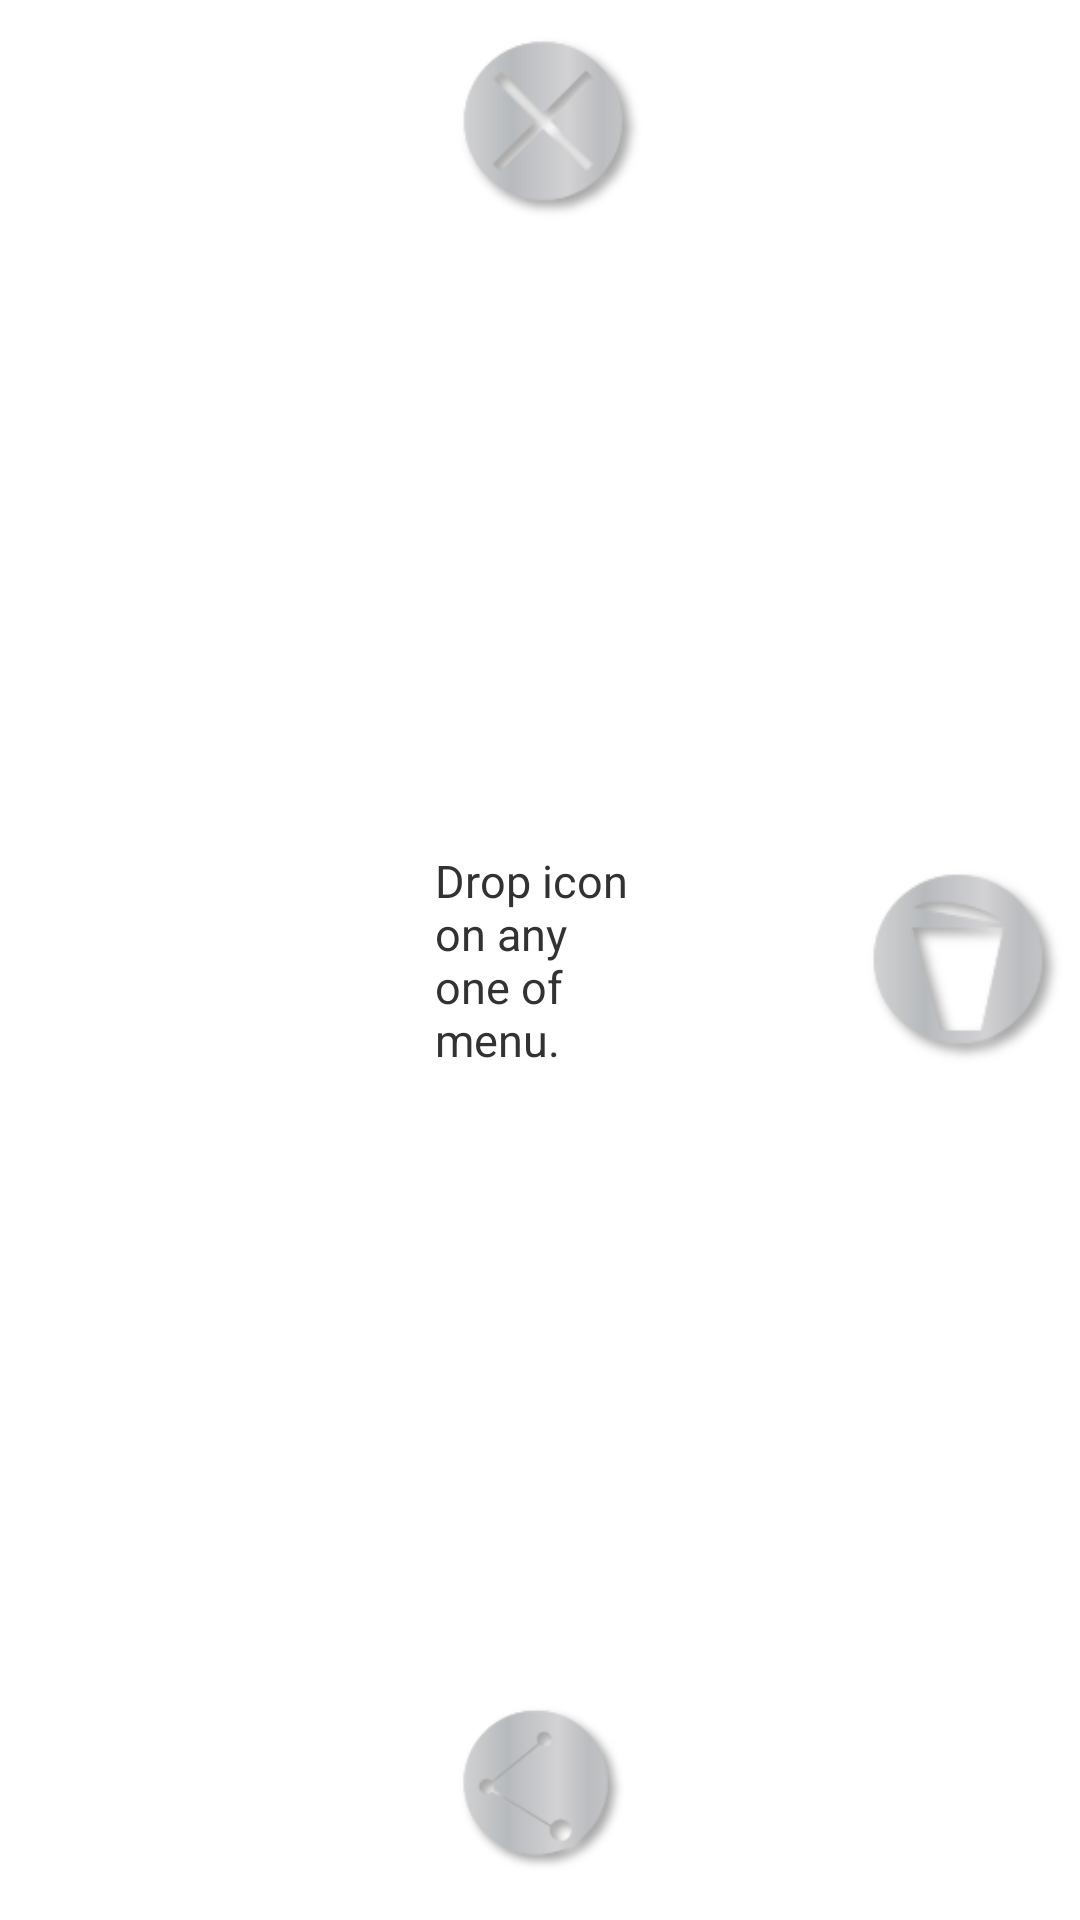

Screen size 1080*1920. Icon name, then its center in pixels as point (x, y):
share: point (540, 1786)
trash empty: point (963, 964)
